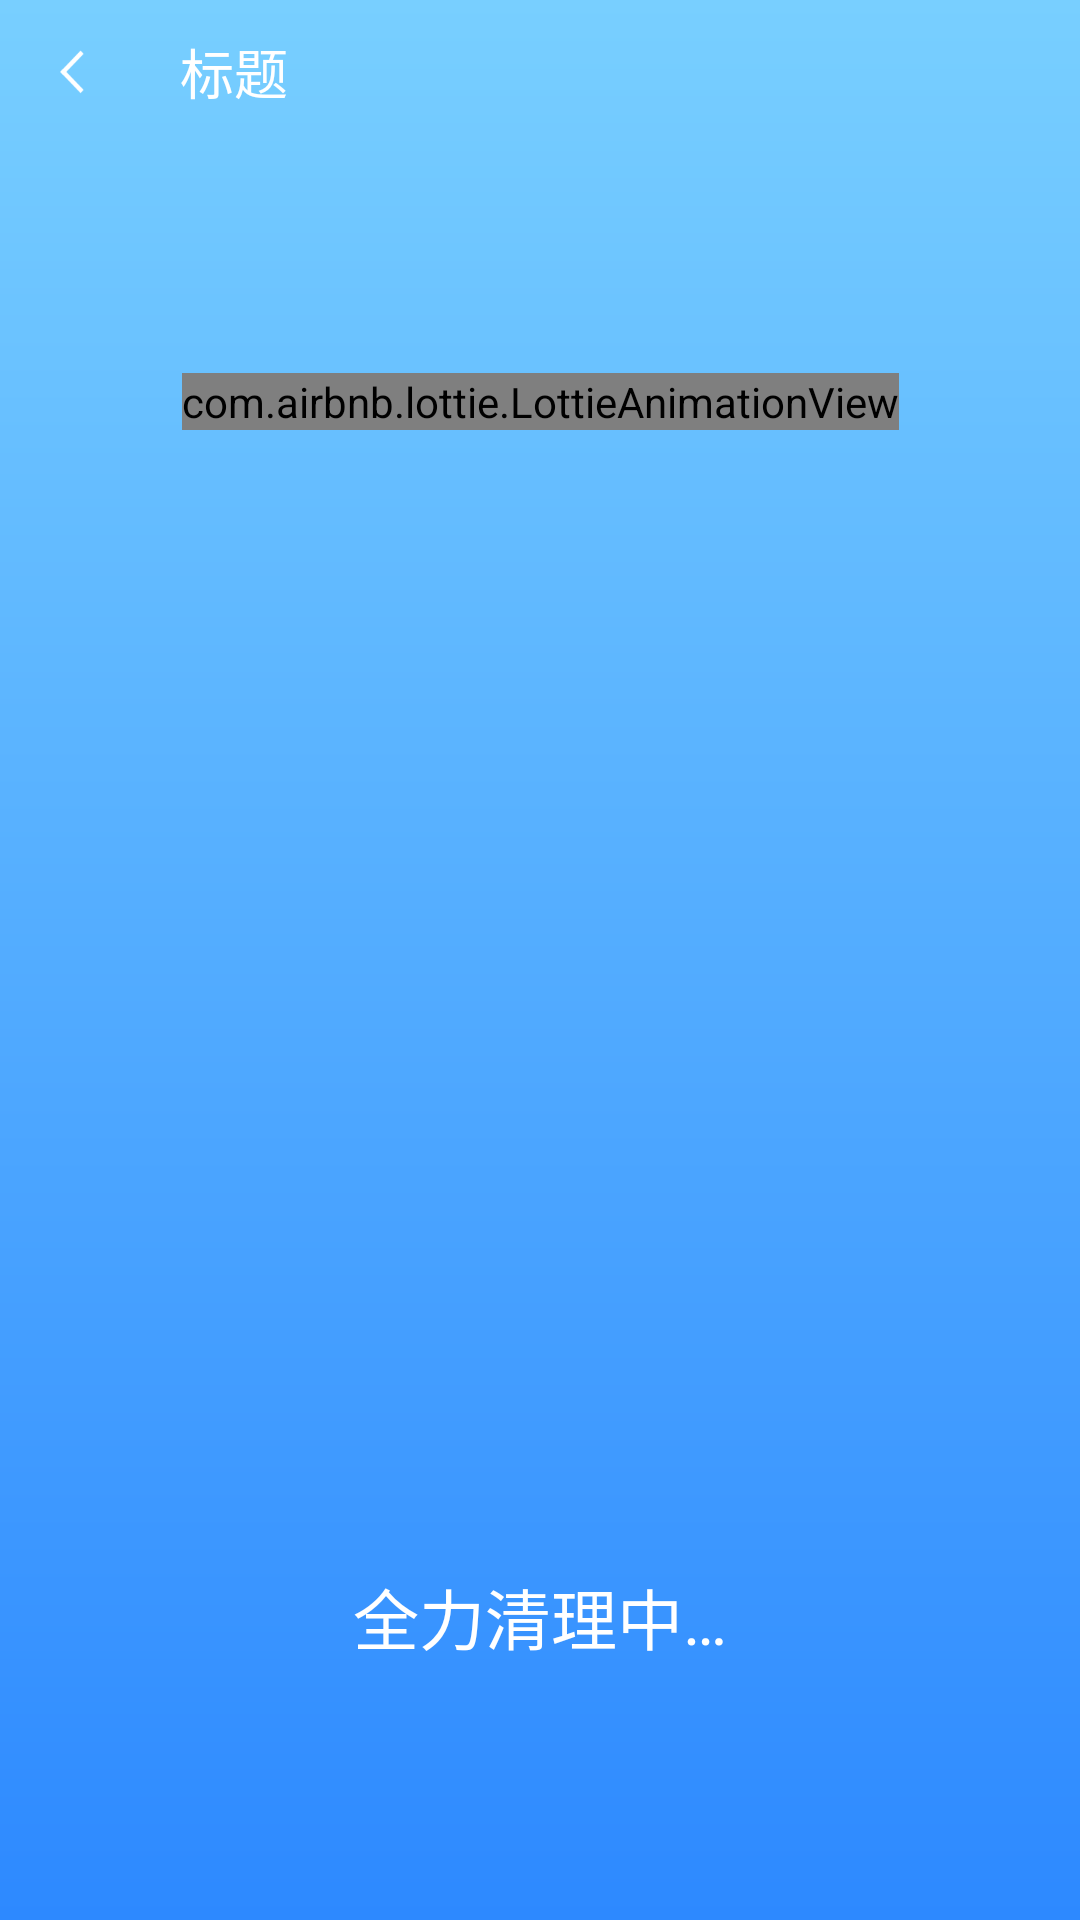

Locate icon controls on the screen. Image size 1080x1920, boxes as (x1, y1, x2, y2).
back: (60, 51, 84, 93)
